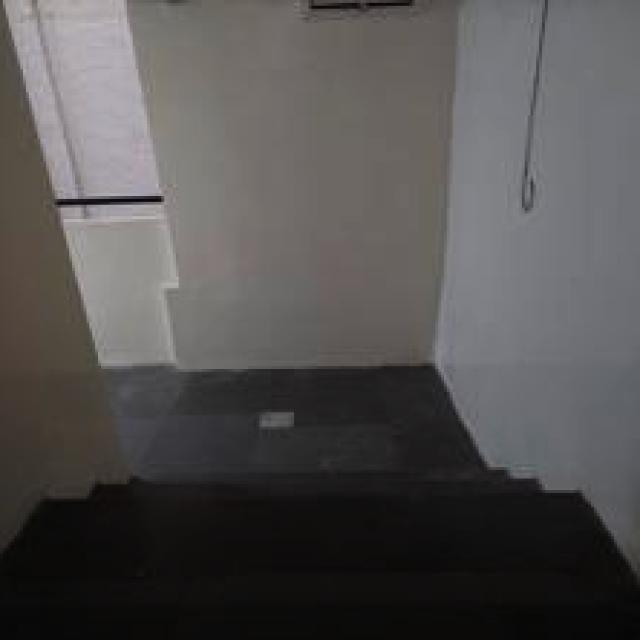downstair: (117, 430, 489, 572)
